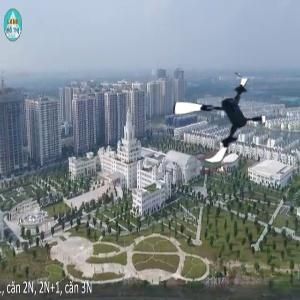drone: (174, 73, 267, 166)
